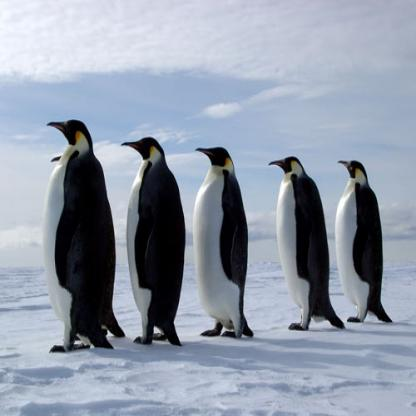Penguin: (30, 110, 130, 357), (116, 130, 200, 357), (266, 144, 353, 338), (189, 142, 269, 338), (328, 146, 401, 332)
